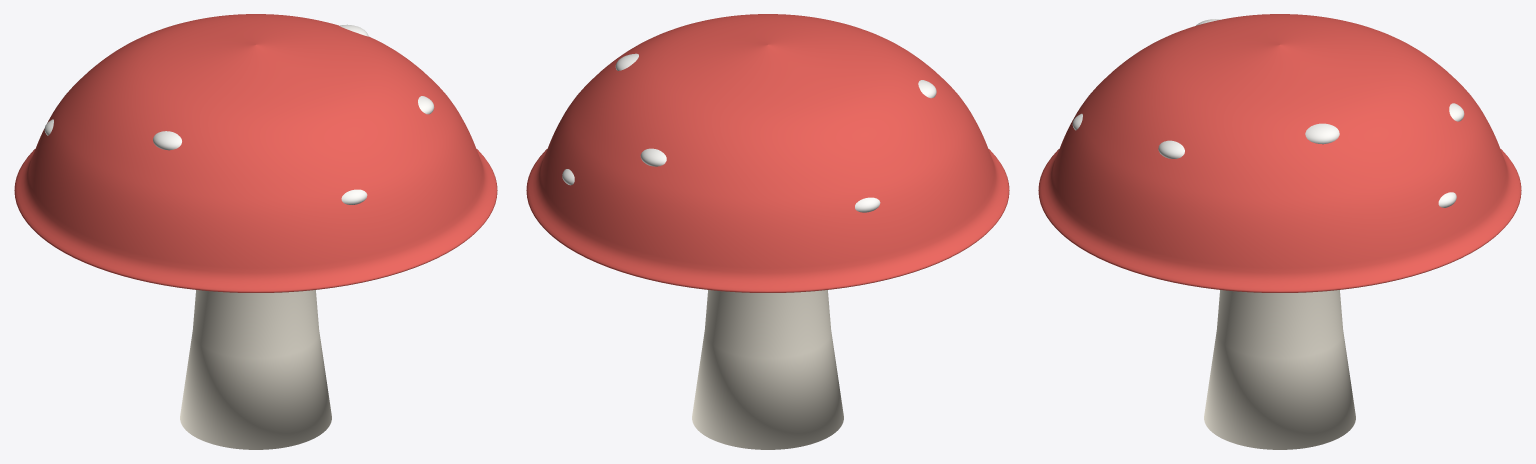
File: mushroom.glb
3 renders of one model, left to right at view 1: azimuth 30°, elevation 25°; view 2: azimuth 150°, elevation 25°; view 3: azimuth 270°, elevation 25°, orthographic.
Parts seen in each view (by area): view 1: Cap, Stem; view 2: Cap, Stem; view 3: Cap, Stem, Sphere.
Boxes of the visible parts, x1=… form: Cap: x1=14, y1=14, x2=497, y2=292; Stem: x1=180, y1=290, x2=331, y2=449; Cap: x1=526, y1=14, x2=1009, y2=292; Stem: x1=692, y1=290, x2=843, y2=449; Cap: x1=1038, y1=14, x2=1521, y2=292; Stem: x1=1204, y1=290, x2=1355, y2=449; Sphere: x1=1305, y1=123, x2=1339, y2=144.
Bounding box in the file's own units: 1.53 × 1.3 × 1.53.
